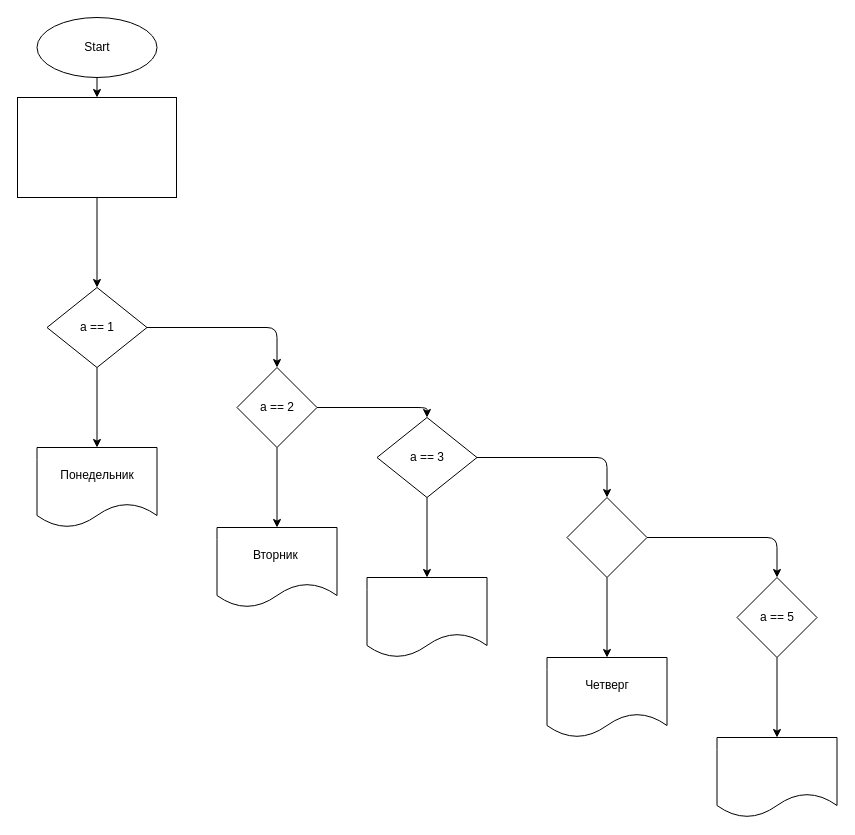
This 855x835 diagram has some shape labels left out. The shapes that lost their labels are listed below. From the top down, each one's centre as x and y in pixels, then its label:
the point at 96,147: int a; 0 <= a <=5
the point at 606,537: a == 4
the point at 426,617: Среда
the point at 776,777: Пятница
